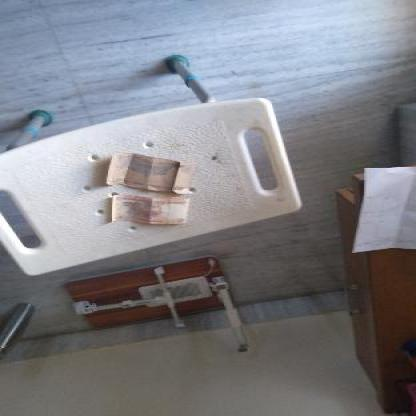Old10Back: (113, 198, 186, 224)
Old50Back: (104, 154, 195, 192)
